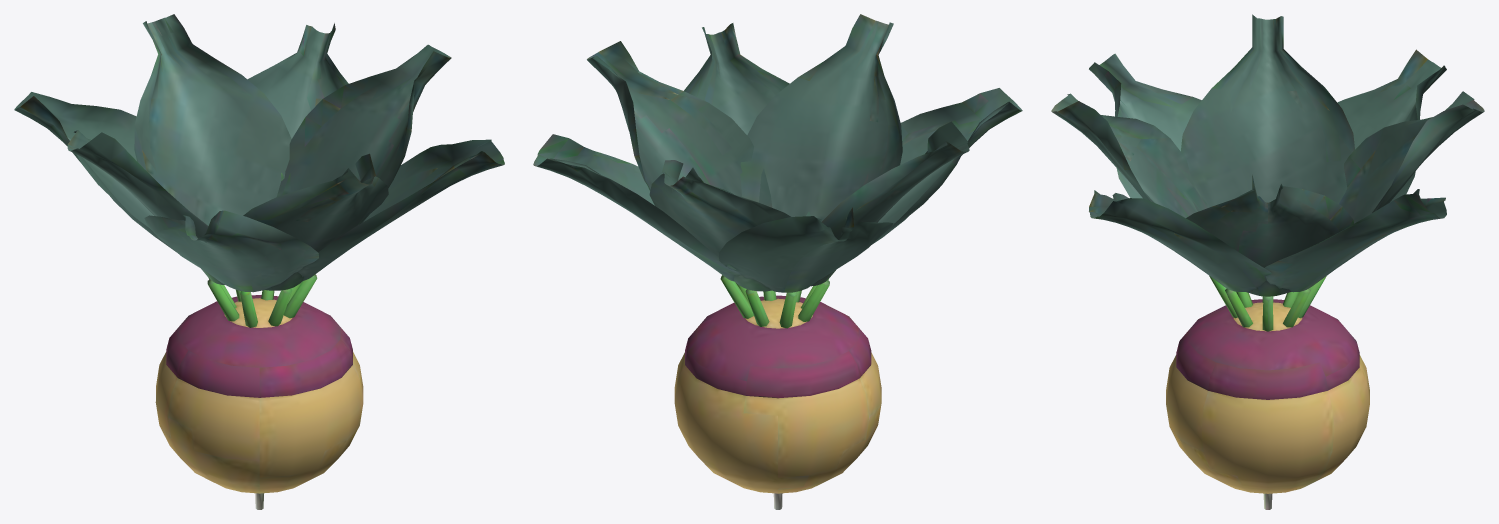
Rendered from crop_rutabaga.glb.
3 views of the same model, side by side, from view 1: azimuth 30°, elevation 25°; view 2: azimuth 150°, elevation 25°; view 3: azimuth 270°, elevation 25° (orthographic).
Parts seen in each view (by area): view 1: crop_rutabaga, fruit; view 2: crop_rutabaga, fruit; view 3: crop_rutabaga, fruit.
Boxes of the visible parts, x1,y1,x2,y2 form: crop_rutabaga: (14,14,504,509); fruit: (155,298,363,493); crop_rutabaga: (533,14,1022,509); fruit: (674,298,881,493); crop_rutabaga: (1051,14,1484,509); fruit: (1166,302,1369,493).
Size of the model in its own units: 0.2304 by 0.2434 by 0.2304.
Materials: 1 (1 with a texture image).
